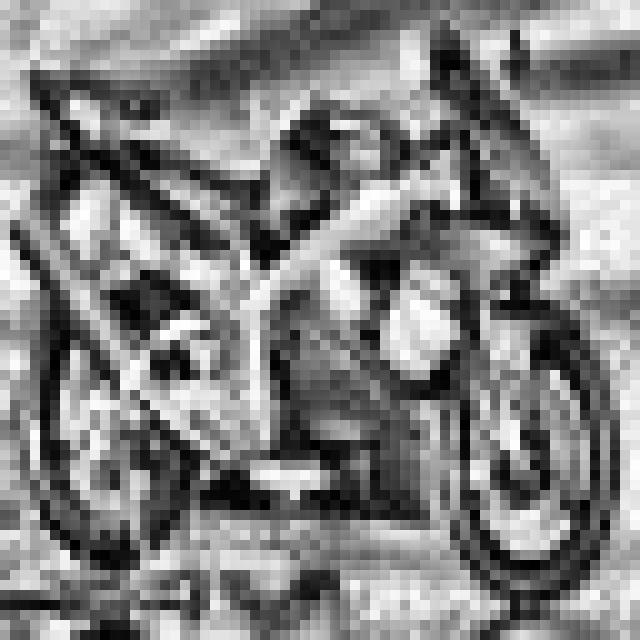mopeds: (11, 37, 640, 607)
